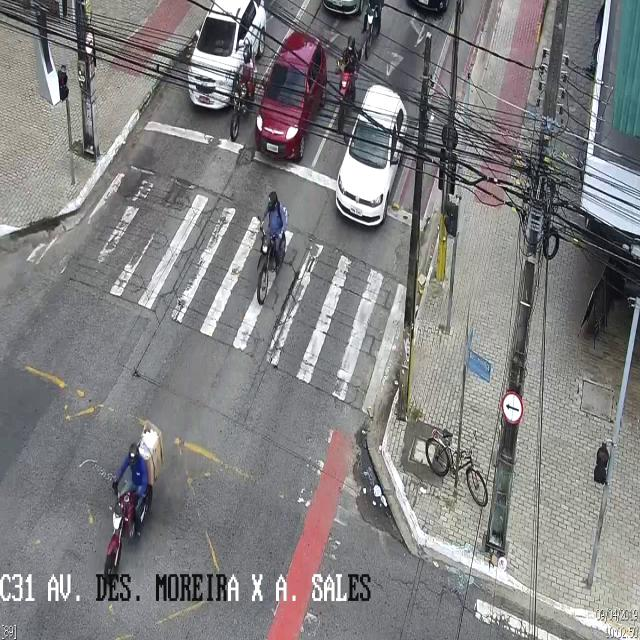Car: (334, 84, 406, 225), (254, 30, 326, 162), (189, 3, 268, 116)
Motorcycle: (104, 419, 162, 582), (255, 191, 287, 303), (229, 46, 257, 142), (336, 35, 358, 134), (363, 1, 383, 61)
